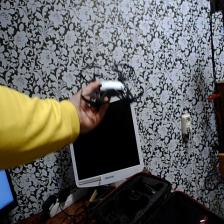drone: (76, 58, 148, 113)
